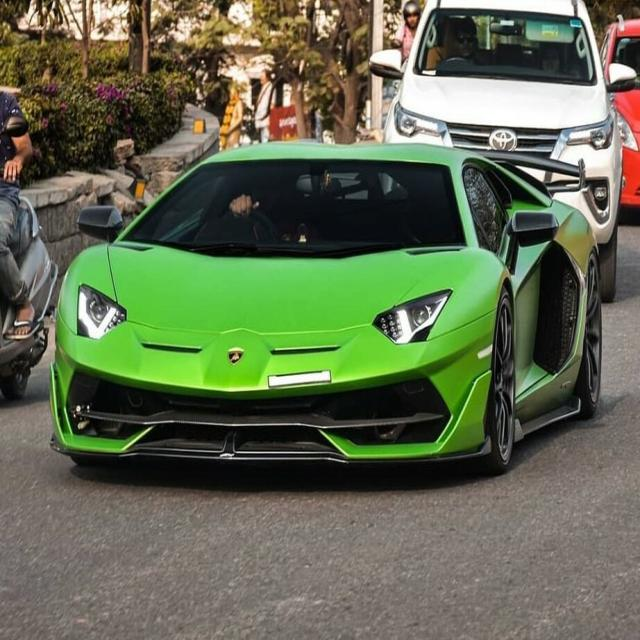green: (39, 140, 604, 488)
white: (378, 0, 623, 293)
